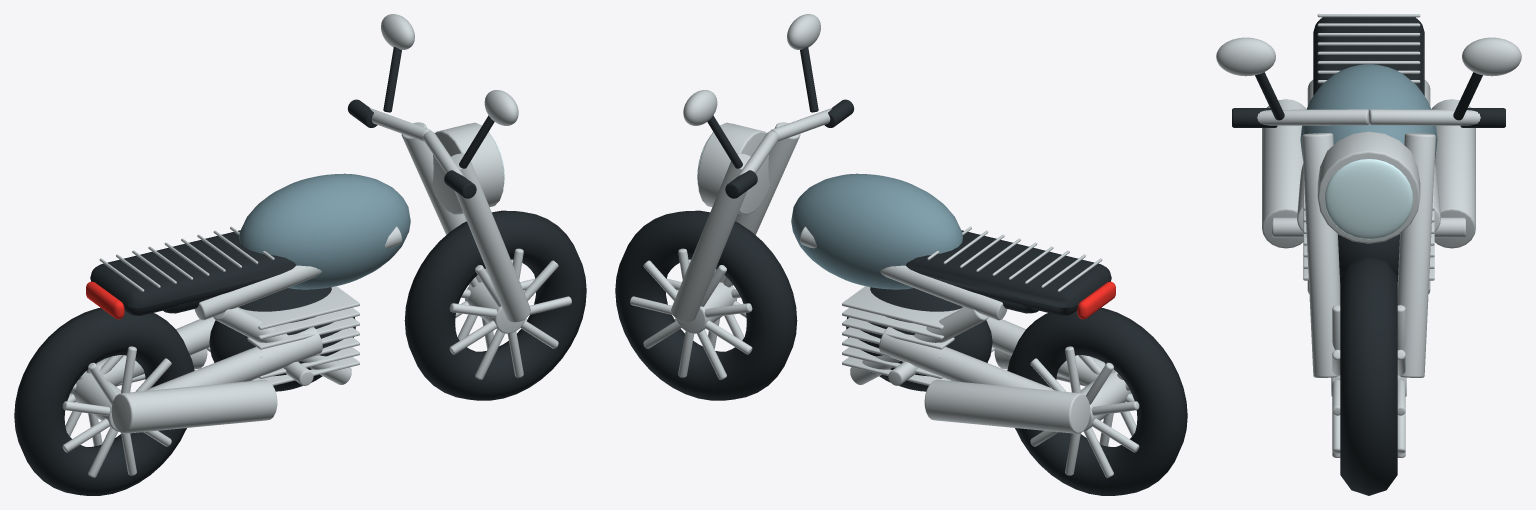
File: ClassicTwin.fbx
3 renders of one model, left to right at view 1: azimuth 30°, elevation 25°; view 2: azimuth 150°, elevation 25°; view 3: azimuth 270°, elevation 25°, orthographic. The views are drawn at different scales.
Parts seen in each view (by area): view 1: BrushedAlloy.002, TrimRubber, TrimRubber.001, TrimRubber.002, BodyPaint, BrushedAlloy, BrushedAlloy.001, Taillamp; view 2: BrushedAlloy.002, TrimRubber, TrimRubber.001, TrimRubber.002, BodyPaint, BrushedAlloy, BrushedAlloy.001, Taillamp; view 3: BrushedAlloy.002, TrimRubber, TrimRubber.002, BodyPaint, Headlamp, BrushedAlloy.
Boxes of the visible parts, x1=… form: BrushedAlloy.002: x1=97, y1=14, x2=530, y2=433; TrimRubber: x1=404, y1=210, x2=586, y2=400; TrimRubber.001: x1=14, y1=307, x2=194, y2=495; TrimRubber.002: x1=90, y1=47, x2=494, y2=391; BodyPaint: x1=239, y1=173, x2=410, y2=289; BrushedAlloy: x1=449, y1=248, x2=571, y2=379; BrushedAlloy.001: x1=62, y1=346, x2=171, y2=477; Taillamp: x1=86, y1=281, x2=124, y2=319; BrushedAlloy.002: x1=671, y1=14, x2=1104, y2=433; TrimRubber: x1=615, y1=210, x2=797, y2=400; TrimRubber.001: x1=1007, y1=307, x2=1187, y2=495; TrimRubber.002: x1=707, y1=47, x2=1111, y2=391; BodyPaint: x1=791, y1=173, x2=962, y2=289; BrushedAlloy: x1=630, y1=248, x2=752, y2=379; BrushedAlloy.001: x1=1030, y1=346, x2=1139, y2=477; Taillamp: x1=1077, y1=281, x2=1115, y2=319; BrushedAlloy.002: x1=1216, y1=14, x2=1521, y2=377; TrimRubber: x1=1340, y1=256, x2=1397, y2=495; TrimRubber.002: x1=1232, y1=17, x2=1505, y2=281; BodyPaint: x1=1300, y1=64, x2=1437, y2=160; Headlamp: x1=1324, y1=159, x2=1413, y2=239; BrushedAlloy: x1=1331, y1=305, x2=1406, y2=457.
Size of the model in its own units: 271 by 162 by 107.
